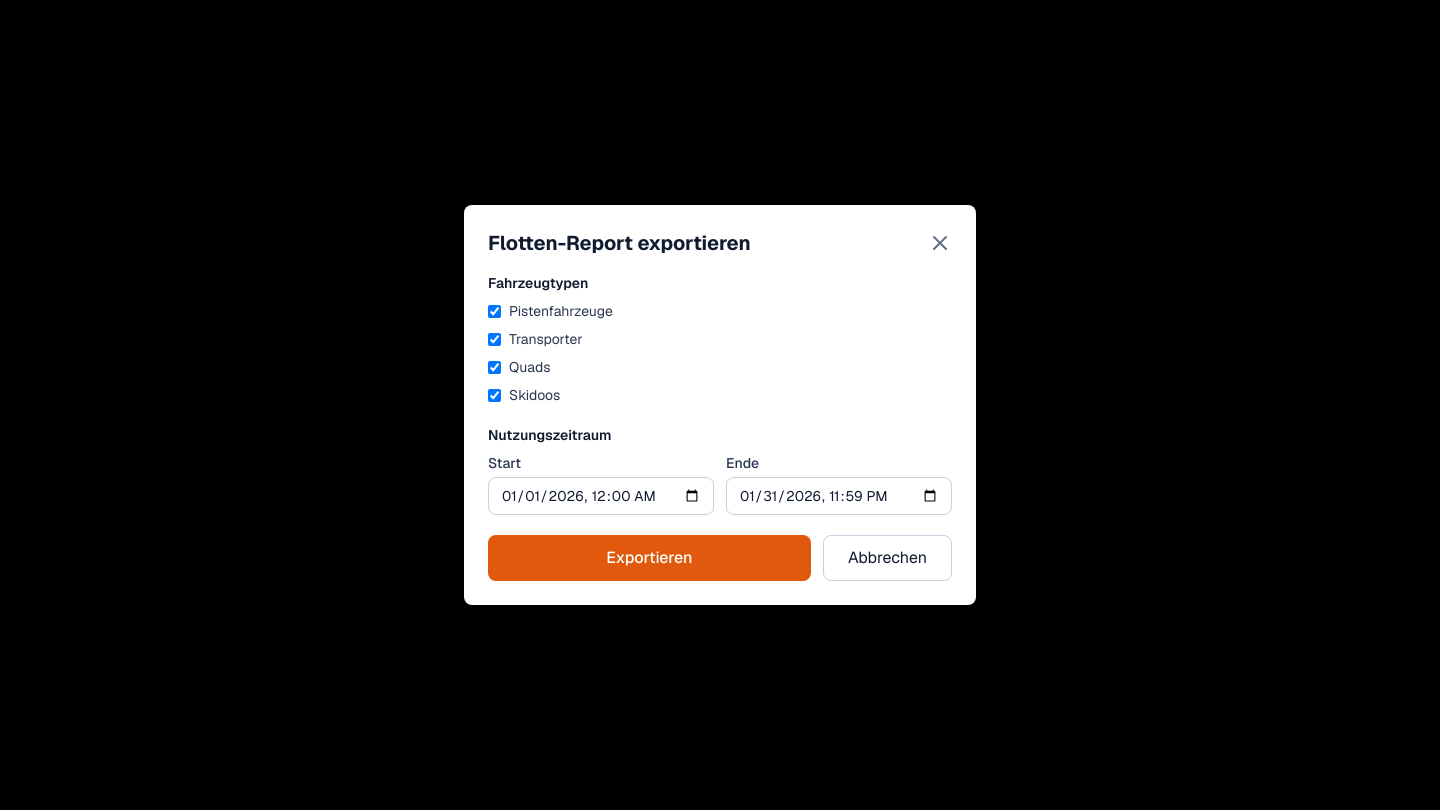
Test: ExportFleetModal › form › shows an error and disables the export when start is after end
Step 1. Replace the text in the field with id "exportRangeStart" with "2026-03-01T00:00" → point(601, 496), box [488,477,714,515]
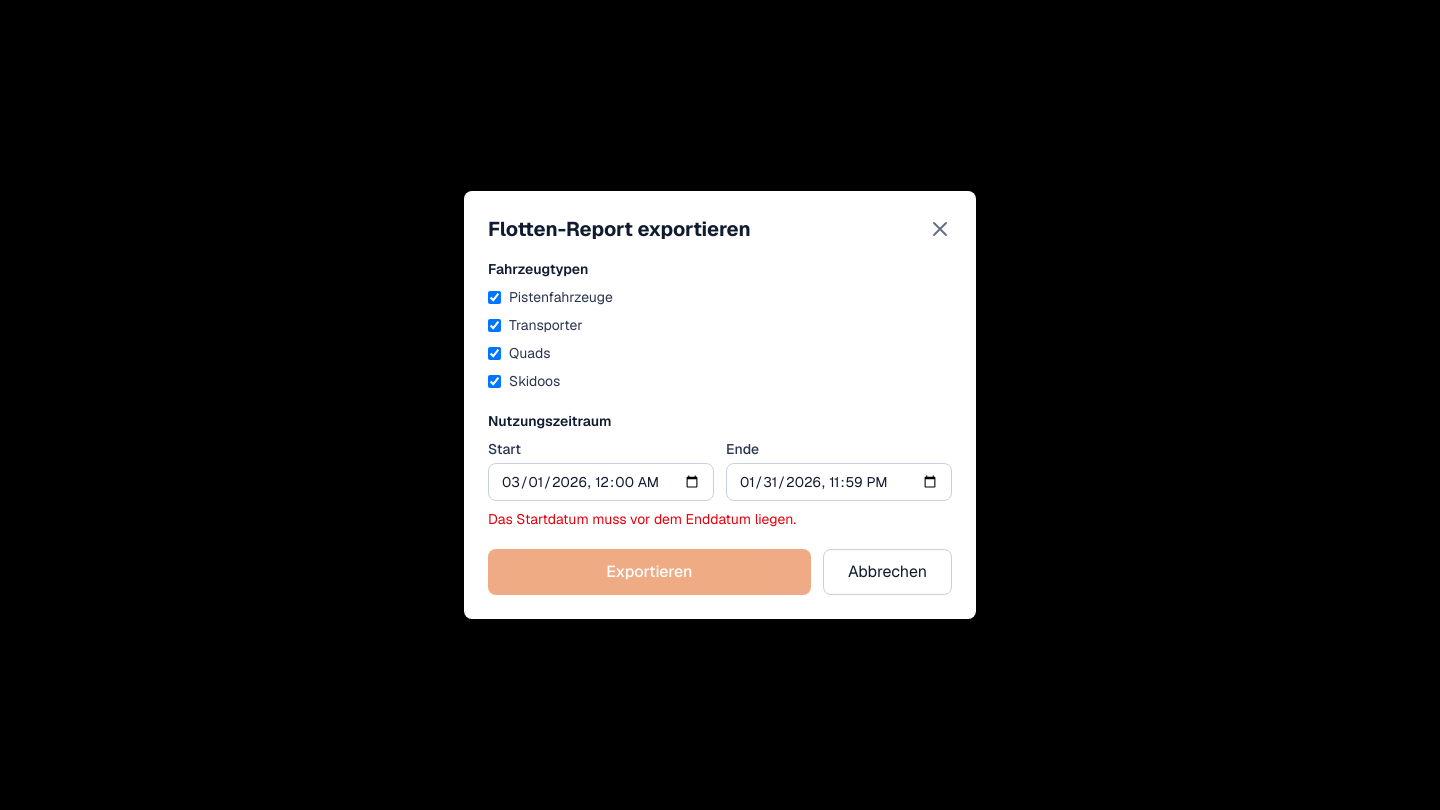
Expected: the text "Das Startdatum muss vor dem Enddatum liegen." is shown, [488,510,796,528]
Expected: the button "Exportieren" is disabled, [488,549,811,595]
